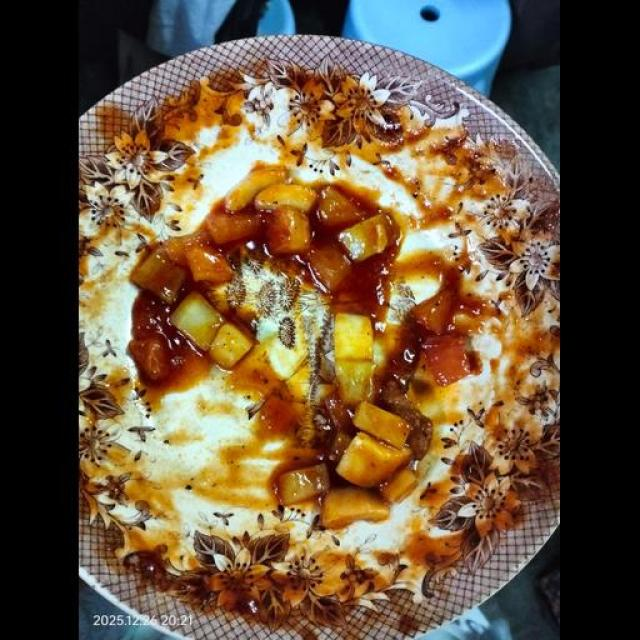organic: (100, 56, 559, 590)
